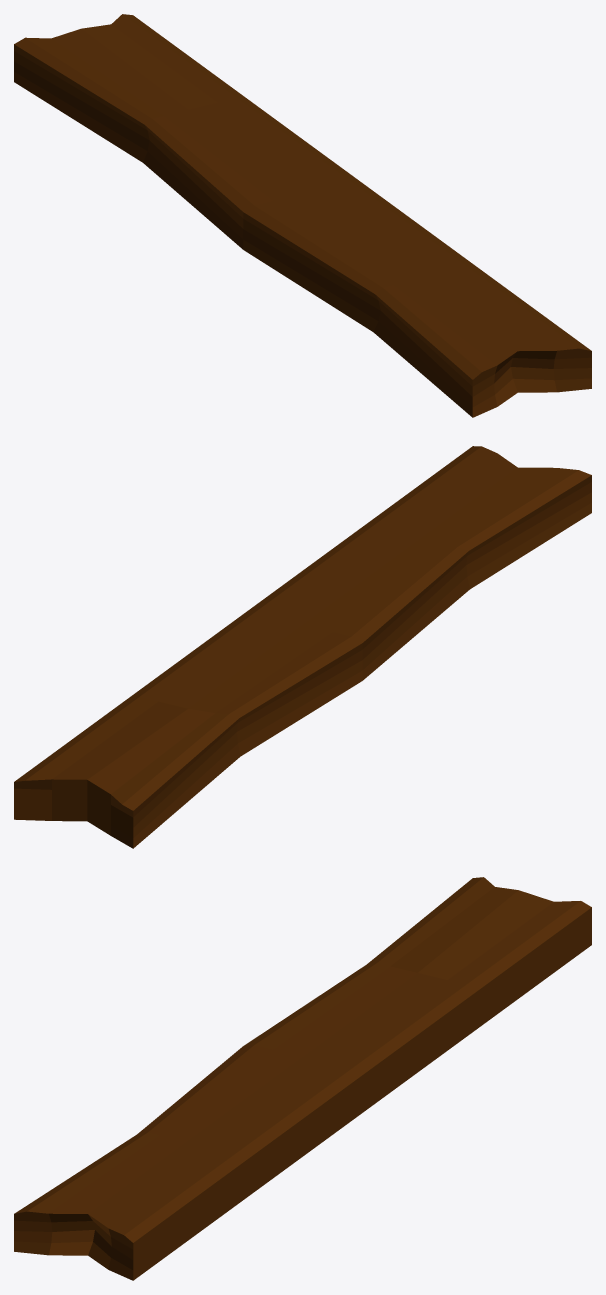
Rendered from Bridge Wood.fbx.
3 views of the same model, one above another, from view 1: azimuth 30°, elevation 25°; view 2: azimuth 150°, elevation 25°; view 3: azimuth 330°, elevation 25° (orthographic).
Visible parts, largest first — view 1: Road; view 2: Road; view 3: Road.
Boxes of the visible parts, x1=… form: Road: x1=14, y1=14, x2=591, y2=417; Road: x1=14, y1=446, x2=591, y2=848; Road: x1=14, y1=877, x2=591, y2=1280.
Bounding box in the file's own units: 60 × 22.81 × 400.
